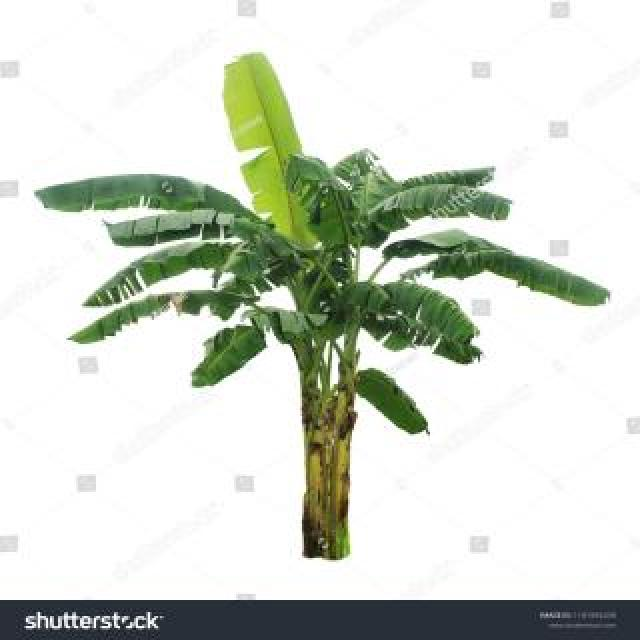Pisang: (32, 42, 604, 556)
